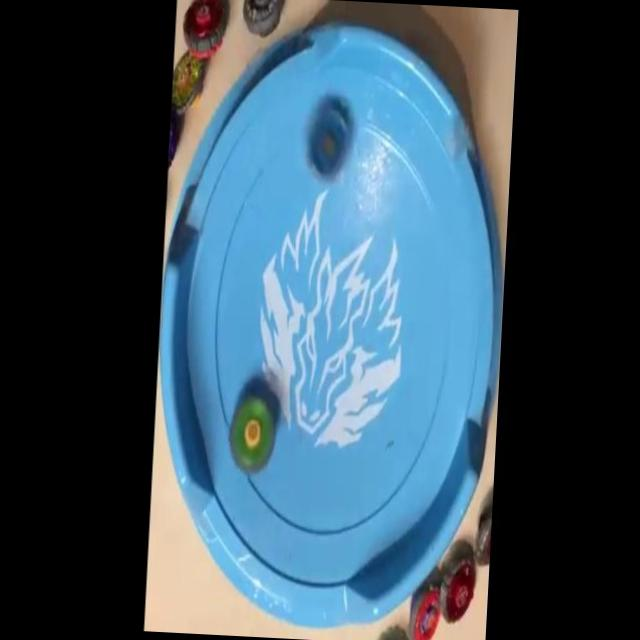Beyblade: (304, 102, 354, 183), (228, 398, 279, 473), (438, 554, 478, 626), (181, 0, 228, 59), (172, 50, 206, 116), (407, 587, 441, 640)
